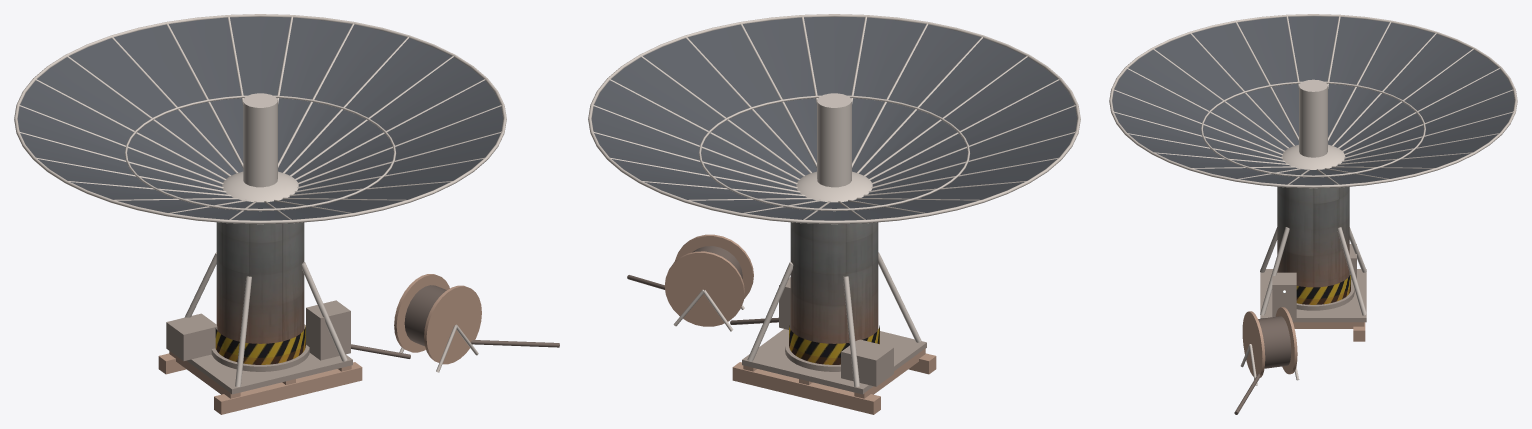
File: E04_fission_reactor_large.glb
The picture shows the model from 3 angles, left to right: view 1: azimuth 30°, elevation 25°; view 2: azimuth 150°, elevation 25°; view 3: azimuth 270°, elevation 25°; orthographic projection. The views are drawn at different scales.
Parts seen in each view (by area): view 1: radiator_cone, vessel_head, reactor_vessel, skid, deck, cable_winding, warning_band; view 2: radiator_cone, vessel_head, reactor_vessel, skid, deck, warning_band, cable_winding; view 3: radiator_cone, vessel_head, reactor_vessel, deck, skid, cable_winding, warning_band.
Part boxes in pixels (x1,y1,x2,y2): radiator_cone: [17, 17, 503, 220]; vessel_head: [14, 14, 506, 386]; reactor_vessel: [216, 222, 304, 343]; skid: [158, 274, 481, 414]; deck: [166, 300, 352, 394]; cable_winding: [351, 285, 559, 358]; warning_band: [215, 325, 305, 364]; radiator_cone: [591, 17, 1077, 220]; vessel_head: [588, 14, 1080, 386]; reactor_vessel: [790, 222, 878, 343]; skid: [664, 234, 936, 414]; deck: [742, 277, 926, 394]; warning_band: [789, 325, 879, 364]; cable_winding: [627, 246, 778, 324]; radiator_cone: [1112, 16, 1514, 185]; vessel_head: [1109, 14, 1517, 385]; reactor_vessel: [1277, 186, 1349, 287]; deck: [1260, 244, 1366, 322]; skid: [1242, 307, 1365, 377]; cable_winding: [1234, 316, 1291, 414]; warning_band: [1296, 275, 1350, 304].
Bounding box in the file's own units: 9.24 × 5.19 × 8.46.
Materials: 8 (2 with a texture image).
